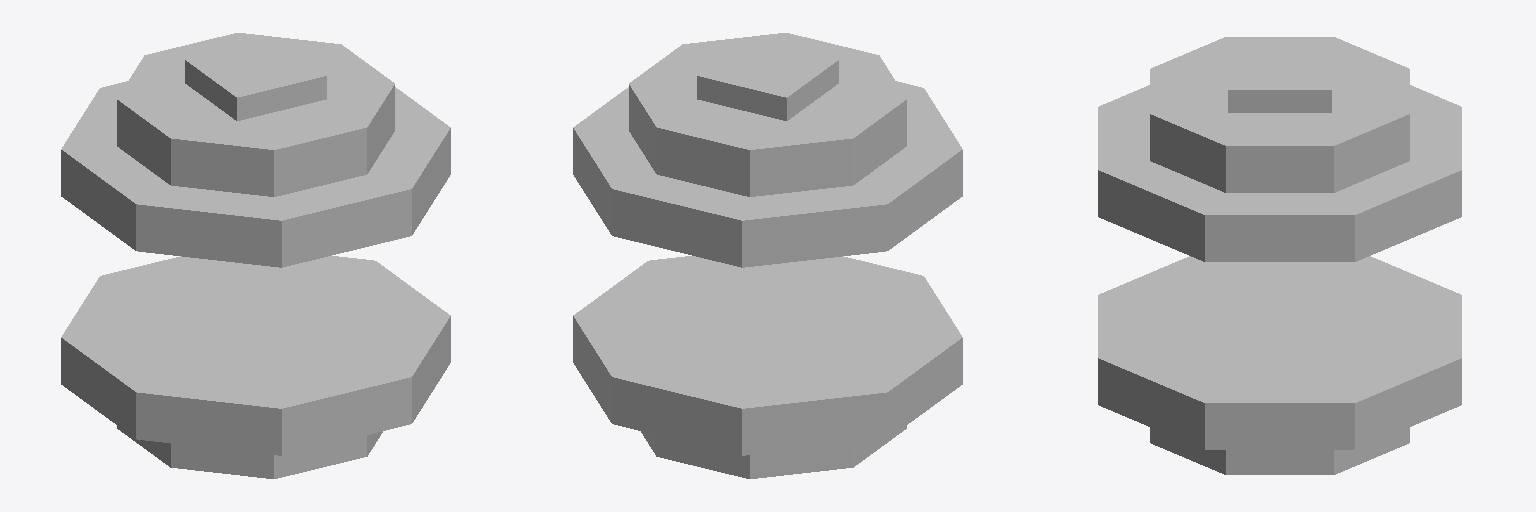
File: wheel.obj
The picture shows the model from 3 angles: view 1: azimuth 30°, elevation 25°; view 2: azimuth 150°, elevation 25°; view 3: azimuth 270°, elevation 25°; orthographic projection.
Visible parts, largest first — view 1: Cube_1, Cube_0, cube_1; view 2: Cube_1, Cube_0, cube_1; view 3: Cube_1, Cube_0, cube_1.
Boxes of the visible parts, <box> form: Cube_1: <box>61,256,450,478</box>; Cube_0: <box>61,33,450,267</box>; cube_1: <box>185,38,326,120</box>; Cube_1: <box>573,256,962,478</box>; Cube_0: <box>573,33,962,267</box>; cube_1: <box>697,38,838,120</box>; Cube_1: <box>1098,256,1461,474</box>; Cube_0: <box>1098,37,1461,261</box>; cube_1: <box>1228,46,1331,112</box>.
Size of the model in its own units: 0.875 by 1 by 0.875.